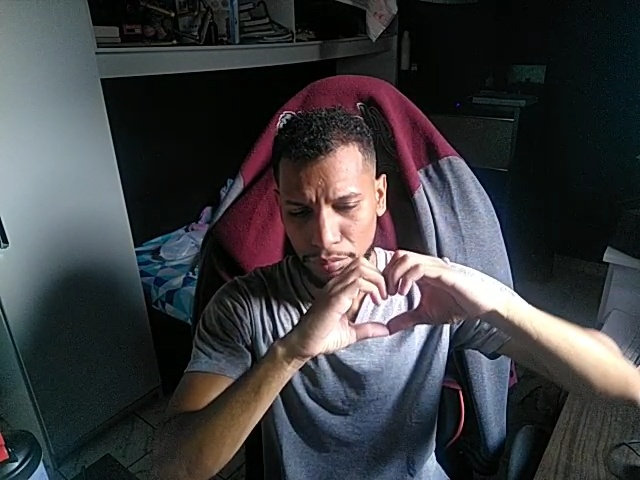eu_te_amo: (308, 248, 463, 340)
